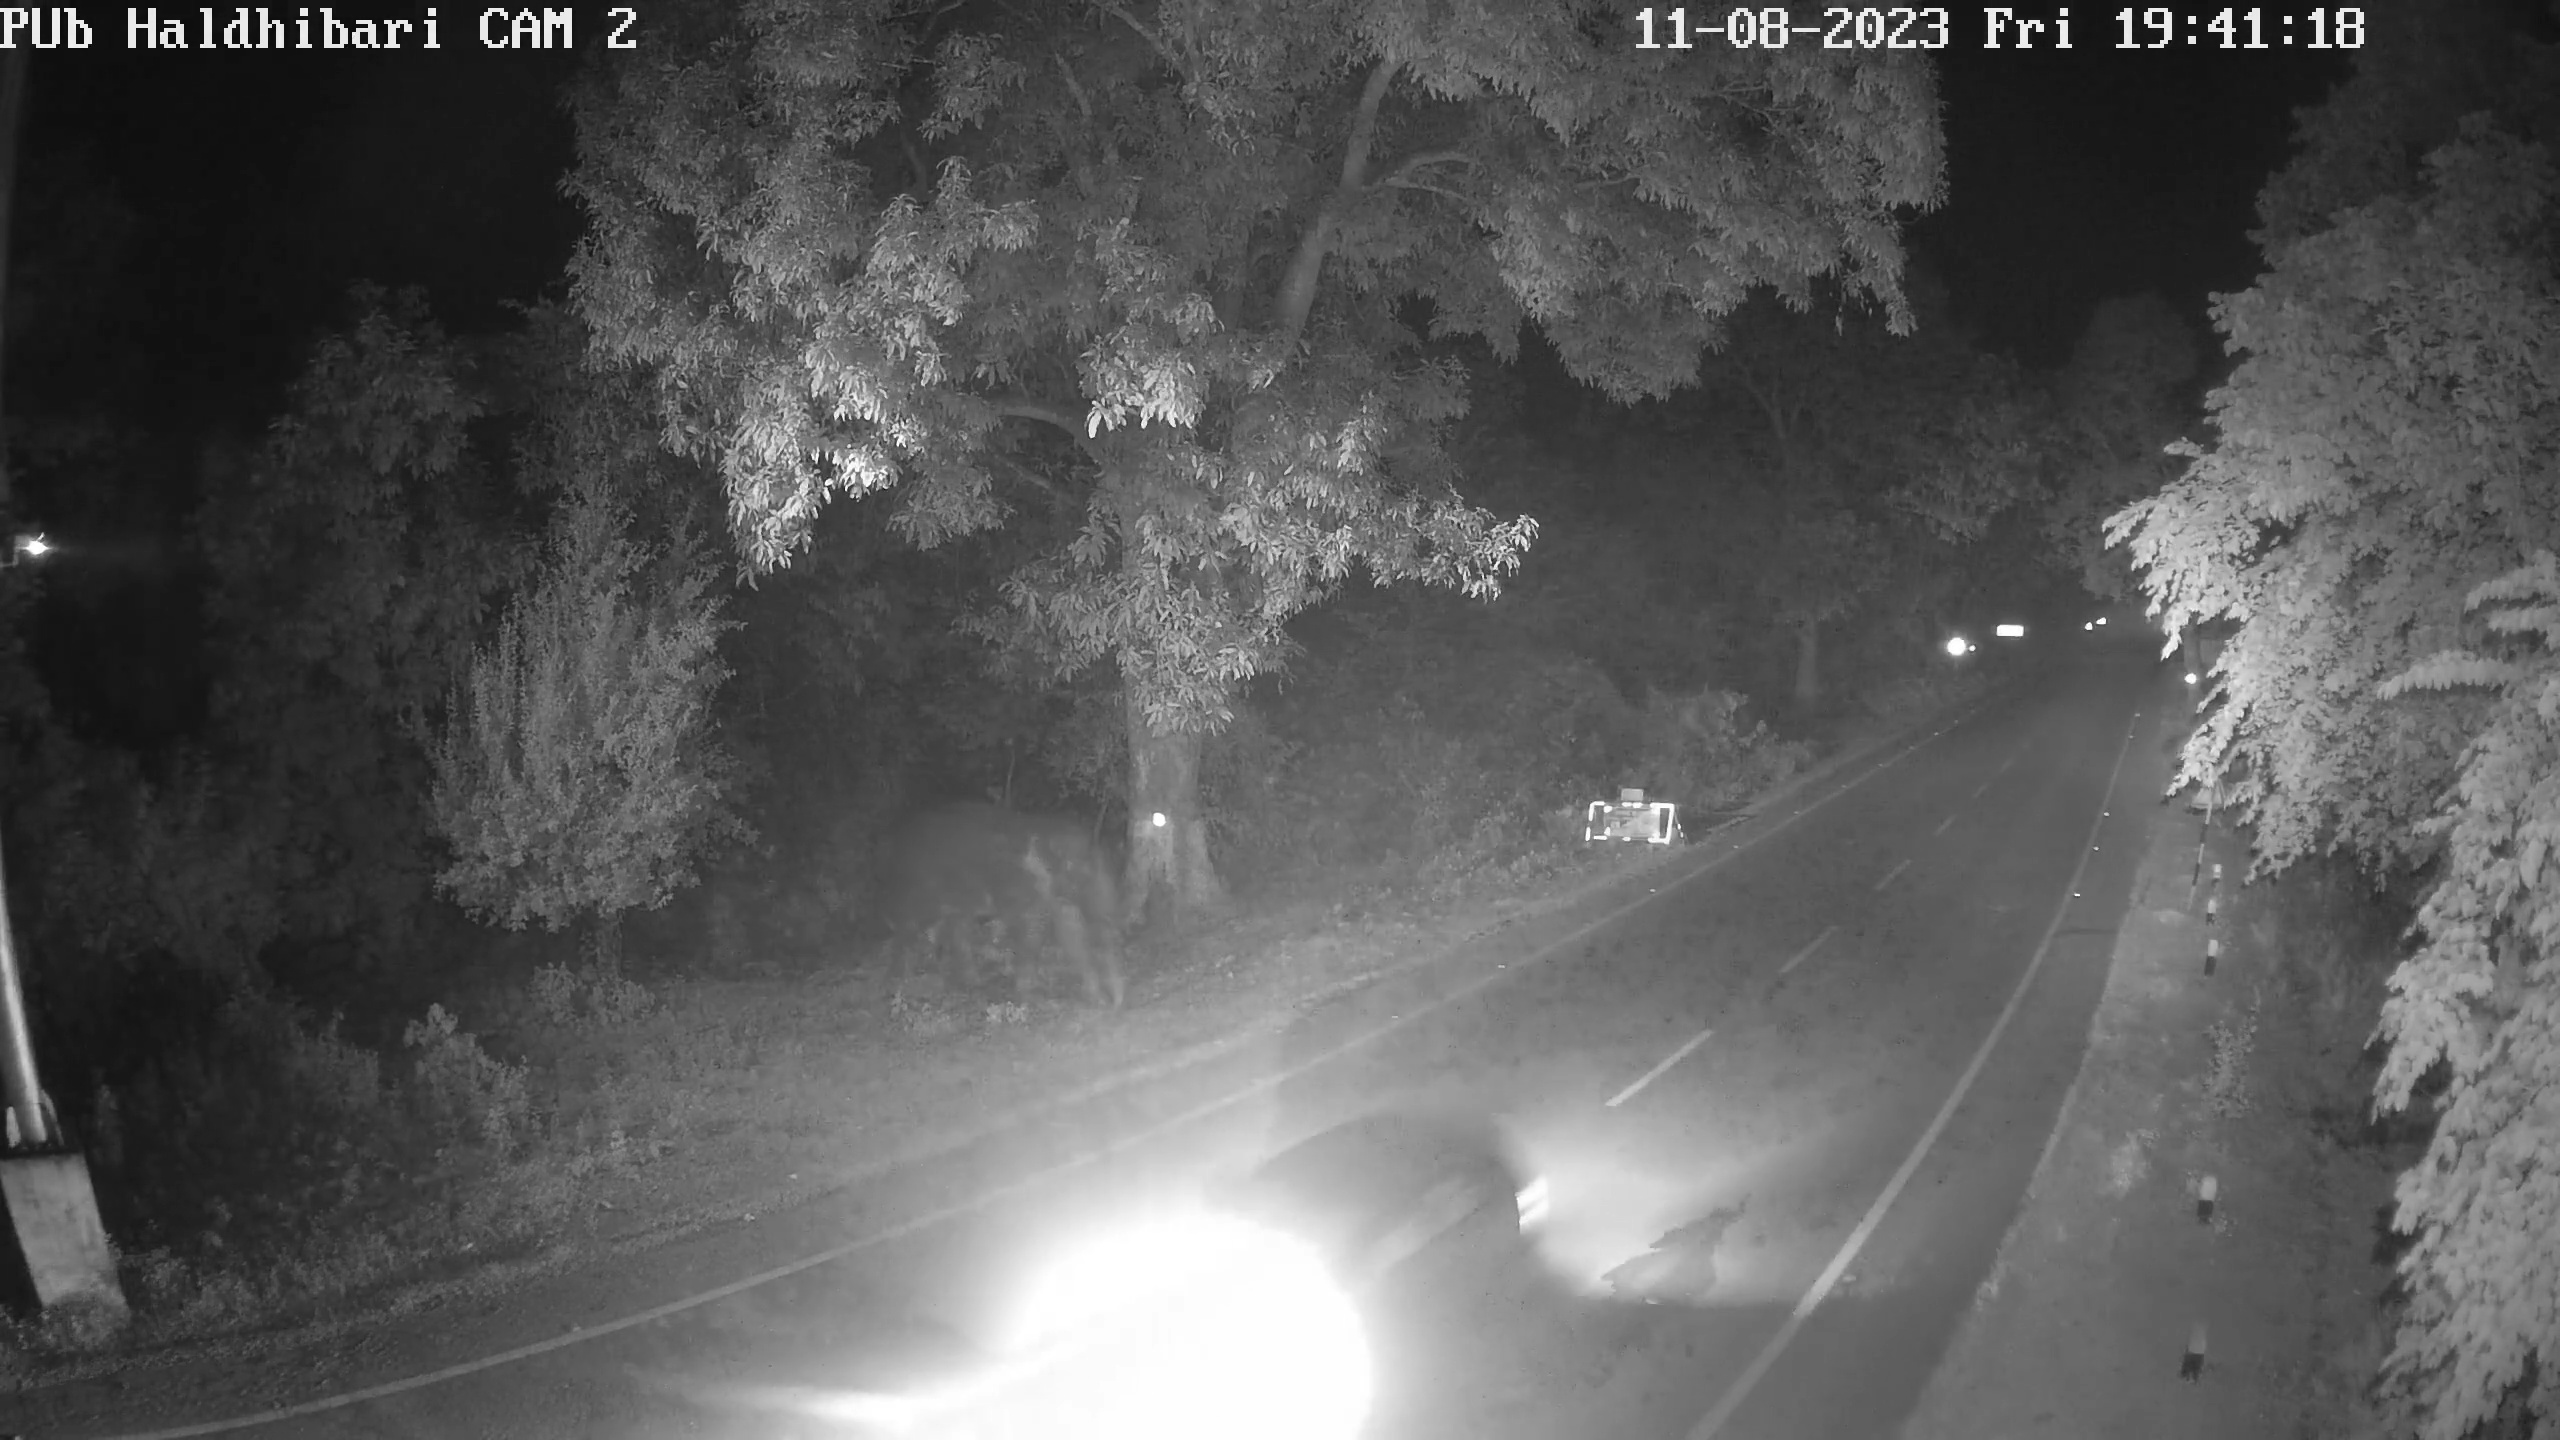elephants: (869, 807, 1129, 1036)
